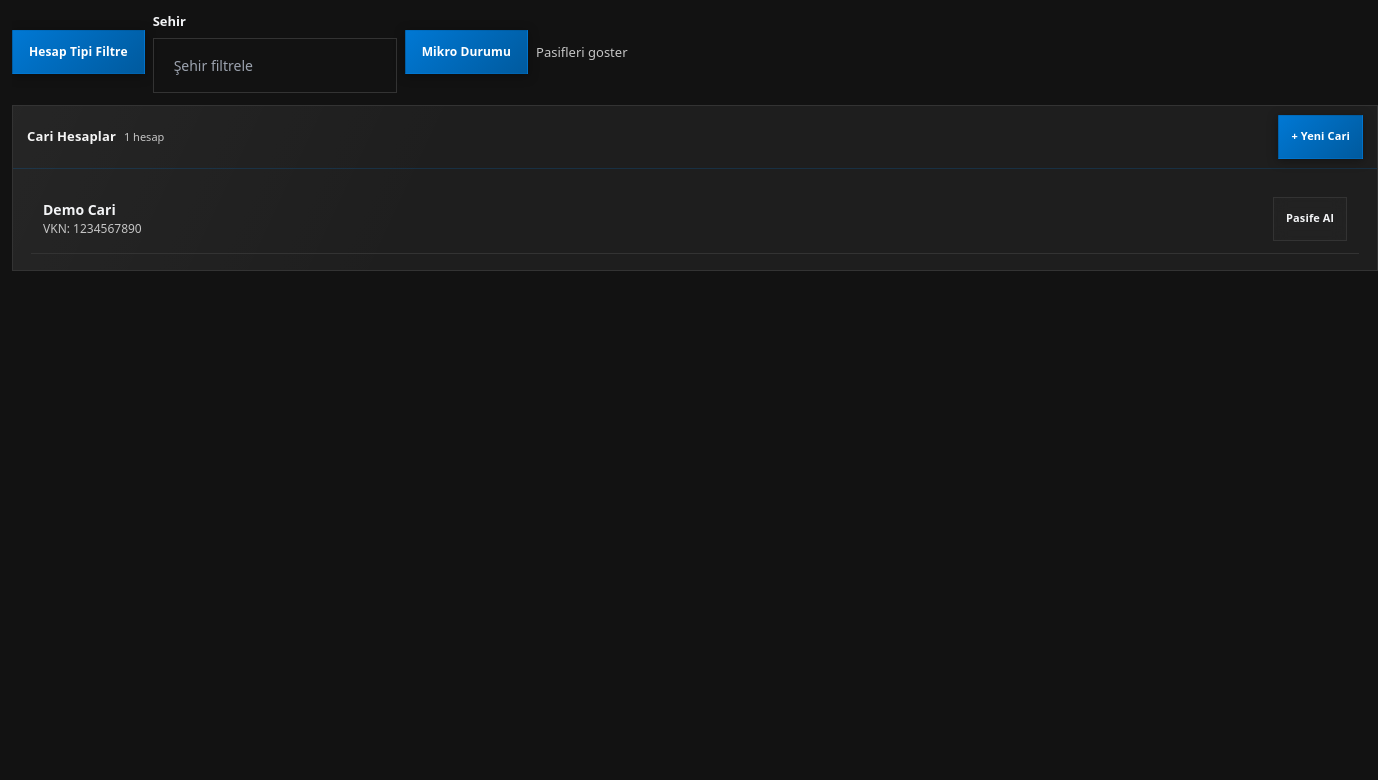
Test: AccountsTab › secili cari icin readonly teknik paneli doldurur
The image size is (1378, 780).
Click the text "Demo Cari": (79, 210) [43, 200, 116, 219]
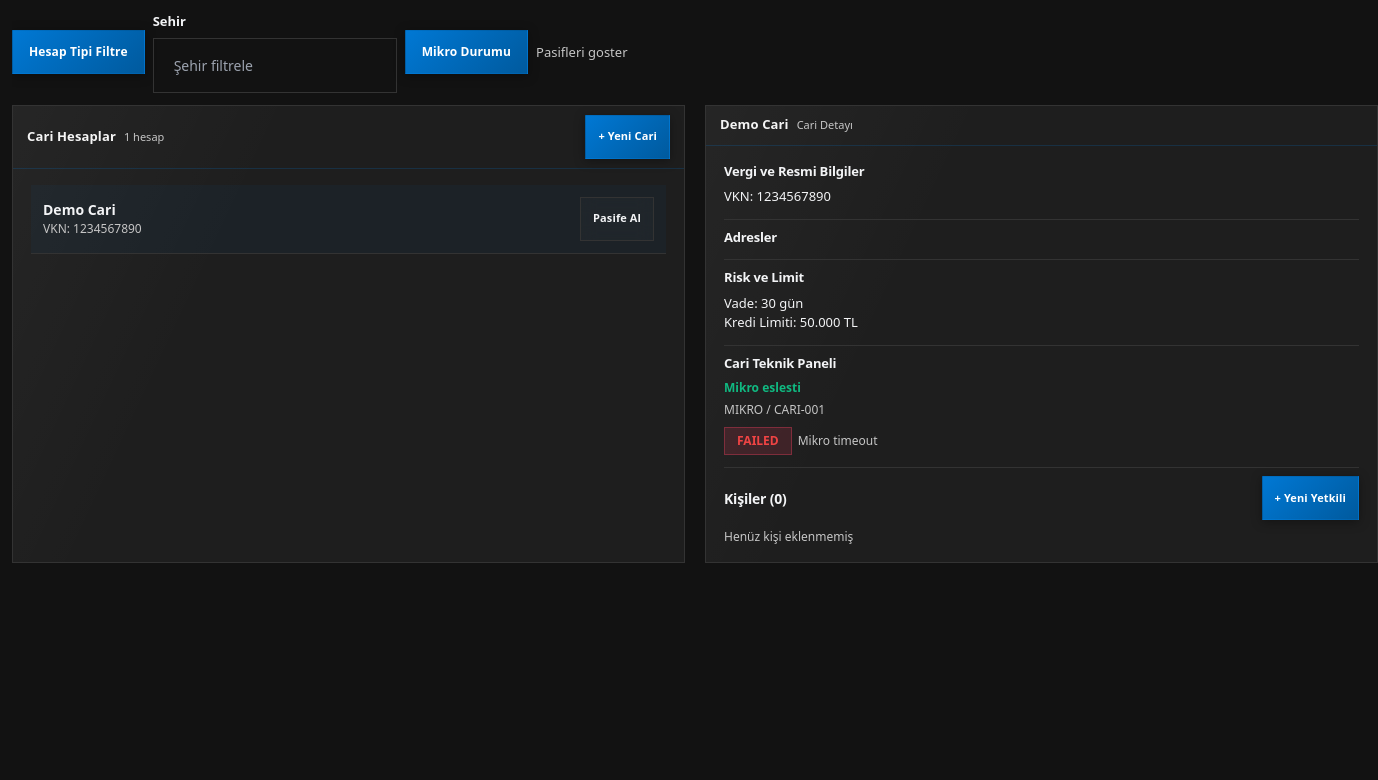
Expected: the heading "Vergi ve Resmi Bilgiler" is shown, [724, 162, 864, 180]
Expected: the heading "Adresler" is shown, [724, 228, 777, 246]
Expected: the heading "Risk ve Limit" is shown, [724, 268, 804, 286]
